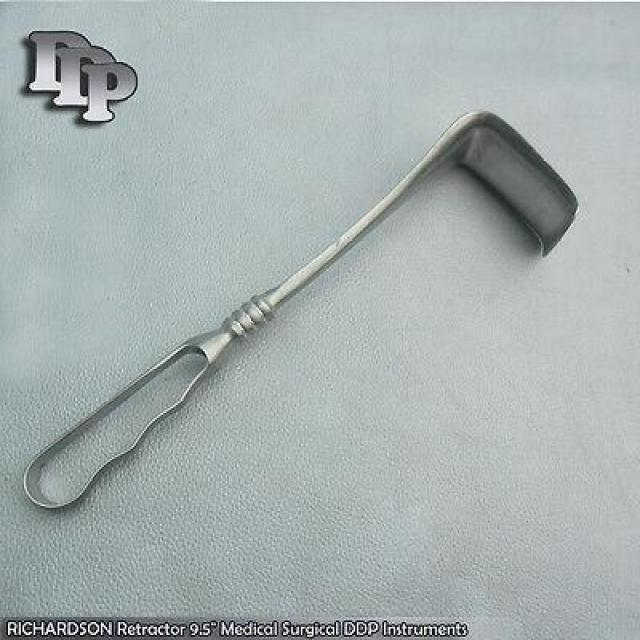Richardson: (16, 106, 584, 518)
